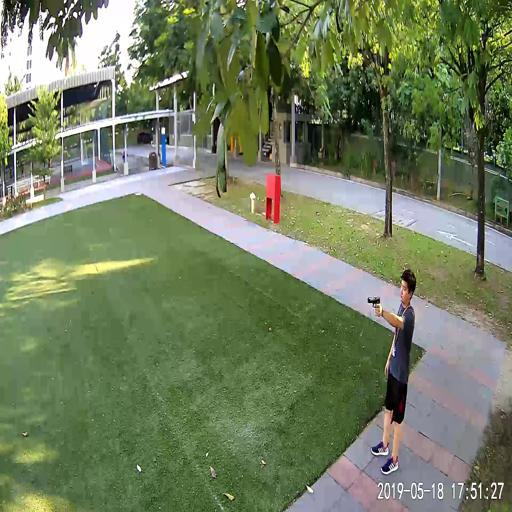Handgun: (365, 293, 379, 307)
